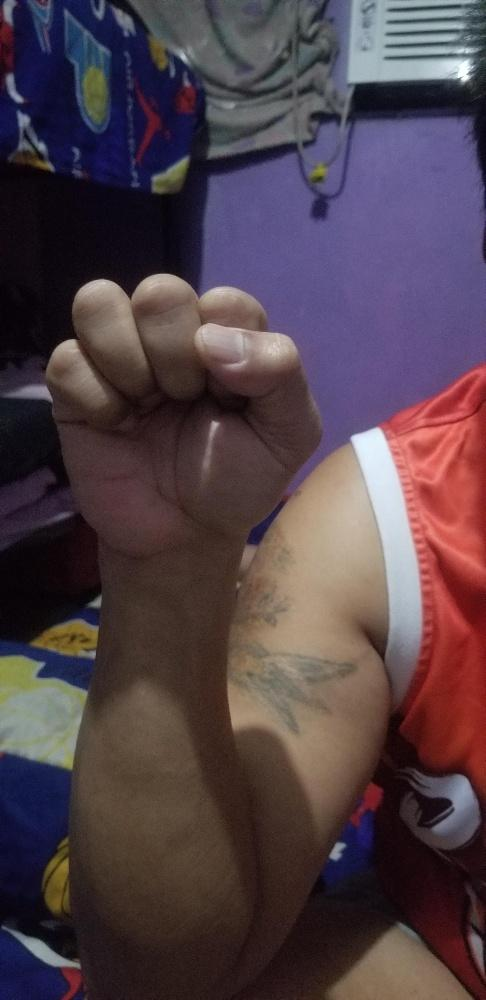s: (45, 272, 327, 549)
